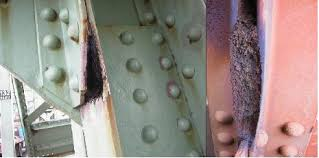rust: (223, 12, 271, 155), (74, 17, 108, 108)
